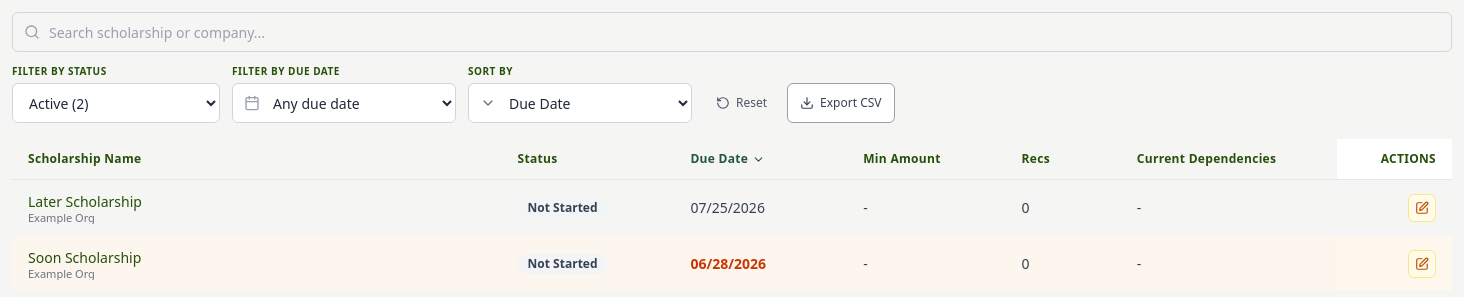
Test: GridView › filters by due date presets
This screenshot has width=1464, height=297.
Select "Due in 7 days" in the dropdown labelled "Filter by due date": (344, 103) [232,83,456,123]
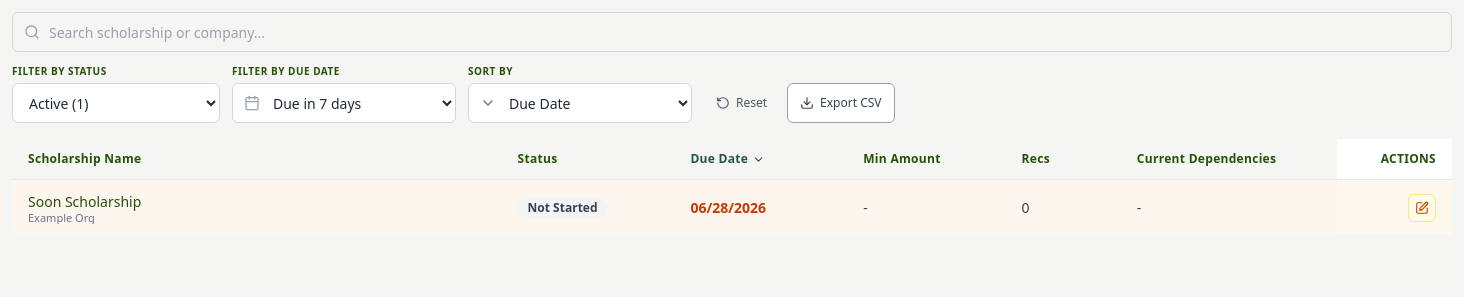
Expected: the text "Soon Scholarship" is shown, [28,192,141,210]
Expected: the text "Later Scholarship" is gone
